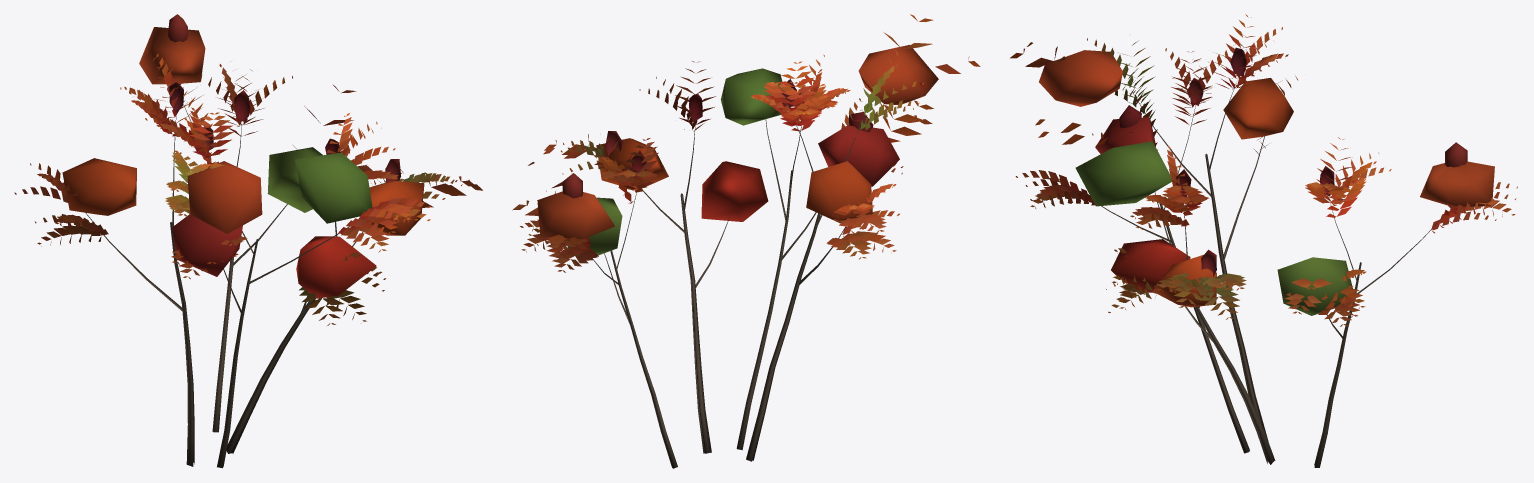
The model's file is sumac.glb.
3 views of the same model, side by side, from view 1: azimuth 30°, elevation 25°; view 2: azimuth 150°, elevation 25°; view 3: azimuth 270°, elevation 25° (orthographic). The views are drawn at different scales.
Parts seen in each view (by area): view 1: sumac-lo, sumac; view 2: sumac-lo, sumac; view 3: sumac-lo, sumac.
Boxes of the visible parts, bbox=[...] form: sumac-lo: bbox=[62, 14, 482, 468]; sumac: bbox=[14, 51, 462, 466]; sumac-lo: bbox=[512, 14, 980, 468]; sumac: bbox=[520, 47, 923, 467]; sumac-lo: bbox=[1010, 42, 1494, 467]; sumac: bbox=[1015, 14, 1517, 465].
Bounding box in the file's own units: 3.56 × 3.56 × 4.03.
